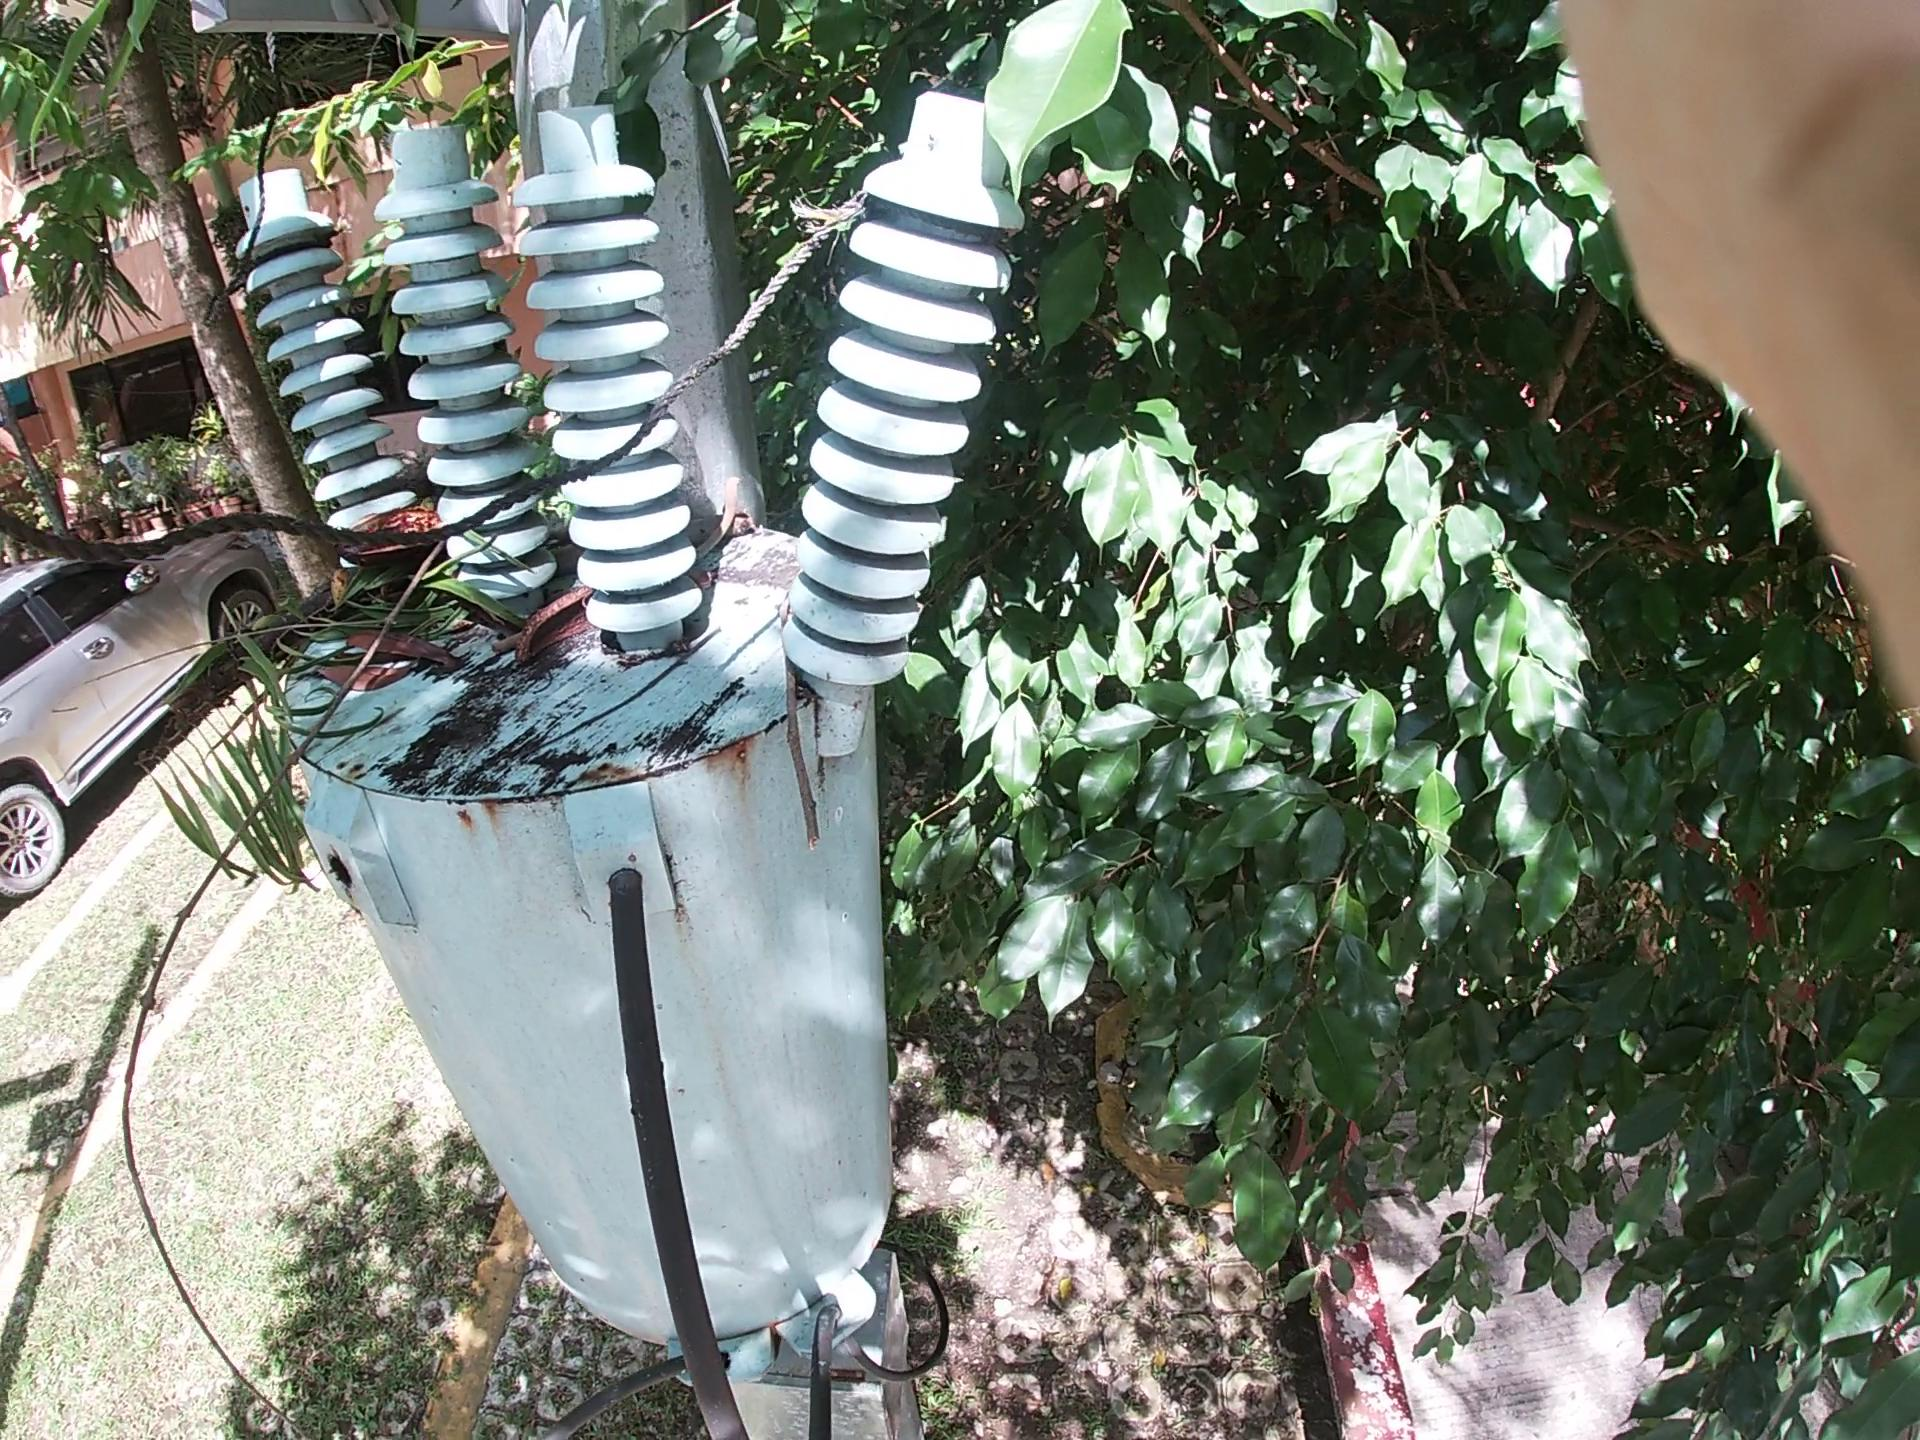branch with leaves: (154, 375, 519, 768)
leaf: (354, 602, 443, 725)
mahogany fruit: (286, 486, 452, 625), (500, 566, 602, 691)
tree branch: (138, 542, 466, 1057), (434, 437, 760, 672), (782, 585, 844, 933)
